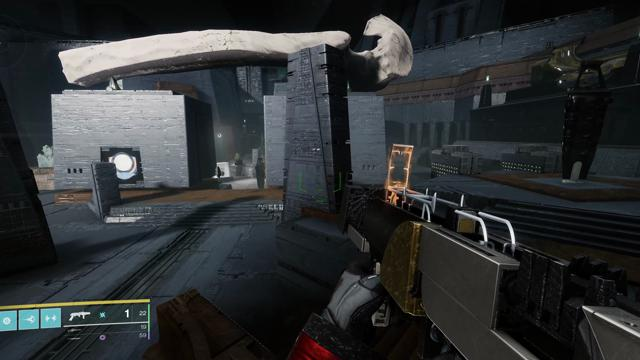traveler: (108, 152, 137, 180)
